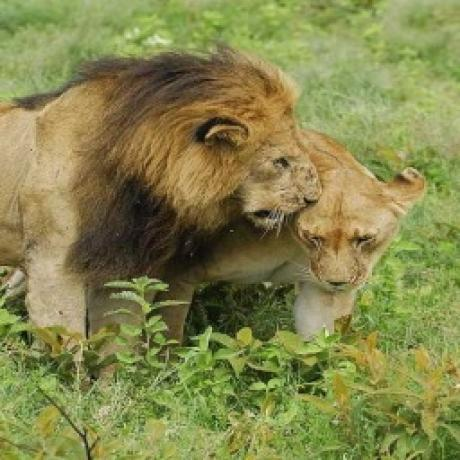Lion: (0, 52, 322, 346), (142, 127, 429, 351)
